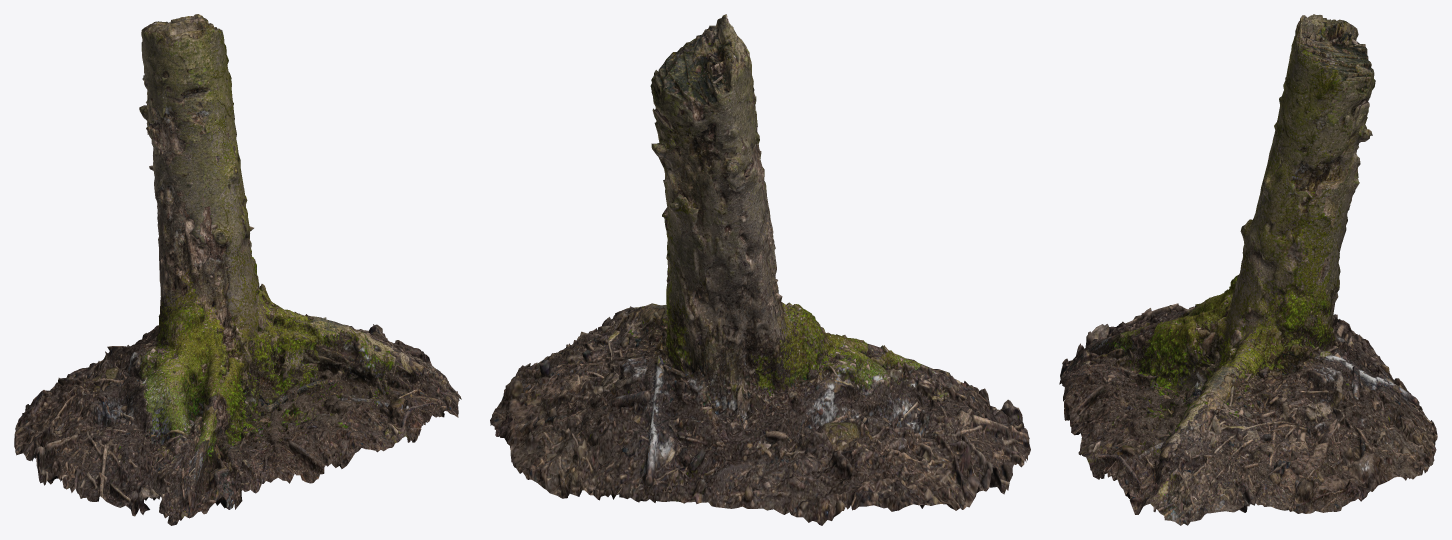
File: PX_Stump_12_LOD0.fbx
The picture shows the model from 3 angles, left to right: view 1: azimuth 30°, elevation 25°; view 2: azimuth 150°, elevation 25°; view 3: azimuth 270°, elevation 25°; orthographic projection. The views are drawn at different scales.
Parts seen in each view (by area): view 1: PX_Stump_12_LOD0; view 2: PX_Stump_12_LOD0; view 3: PX_Stump_12_LOD0.
Boxes of the visible parts, x1,y1,x2,y2 form: PX_Stump_12_LOD0: (14,14,461,525); PX_Stump_12_LOD0: (490,14,1030,525); PX_Stump_12_LOD0: (1059,14,1437,525).
Size of the model in its own units: 116 by 111 by 91.04.
